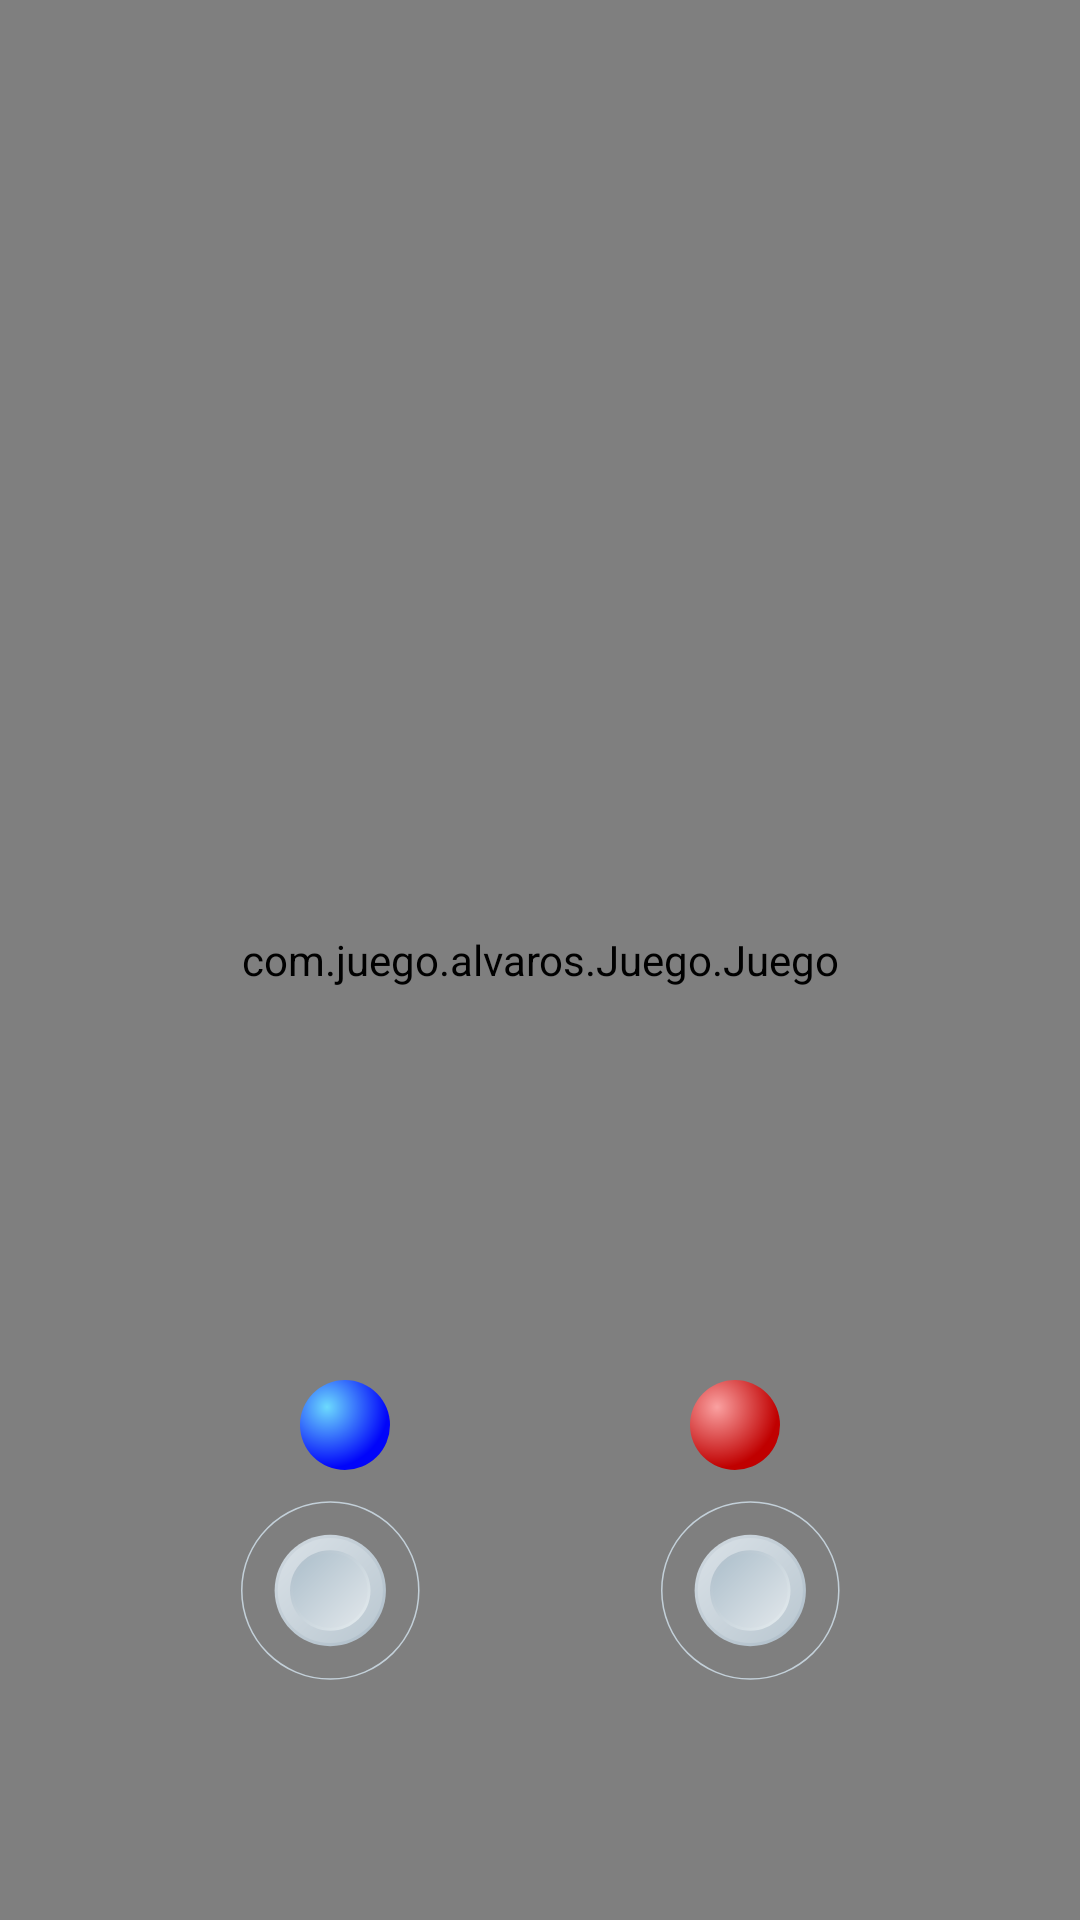

Screen size 1080*1920. Icon name, then its center in pixels as point (x, y):
ciruculo azul: point (345, 1425)
ciruculo rojo: point (735, 1425)
Joystick bola azul: point (330, 1590)
Joystick bola roja: point (750, 1590)
